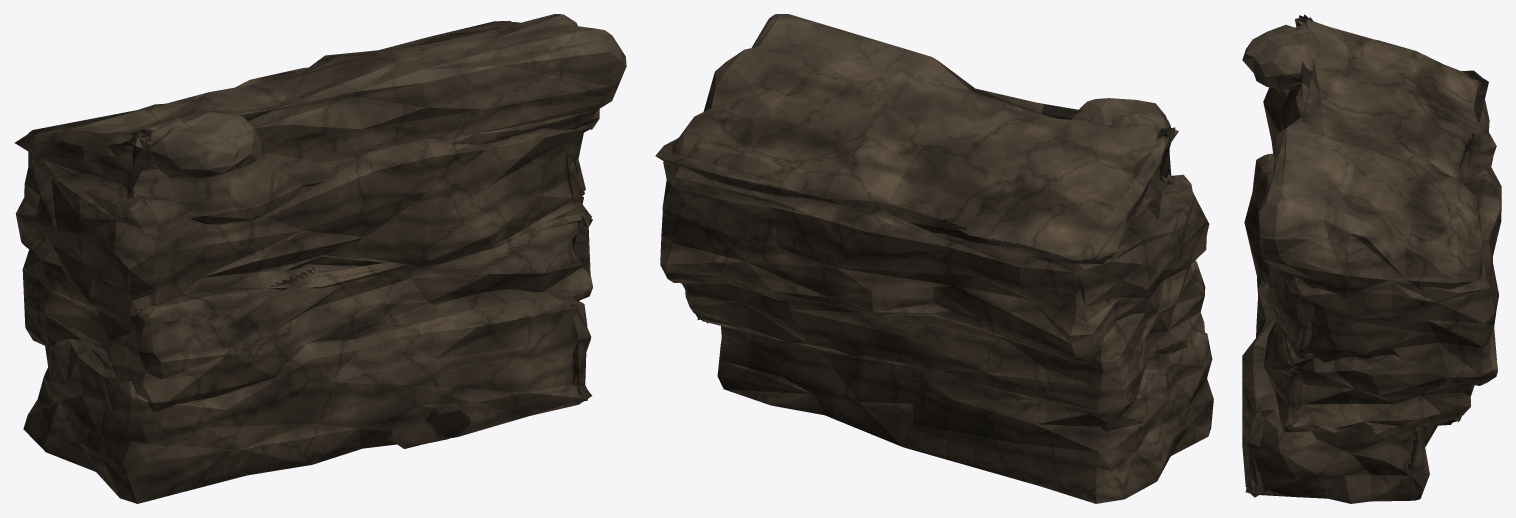
The model's file is mine_cliff_b.glb.
3 views of the same model, side by side, from view 1: azimuth 30°, elevation 25°; view 2: azimuth 150°, elevation 25°; view 3: azimuth 270°, elevation 25° (orthographic). The views are drawn at different scales.
Parts seen in each view (by area): view 1: mine_cliff_b; view 2: mine_cliff_b; view 3: mine_cliff_b.
Part boxes in pixels (bbox=[...]): mine_cliff_b: bbox=[15, 14, 626, 503]; mine_cliff_b: bbox=[655, 14, 1213, 503]; mine_cliff_b: bbox=[1242, 14, 1501, 503].
Size of the model in its own units: 3.6 by 2.34 by 1.79.
1 material, 1 textured.
